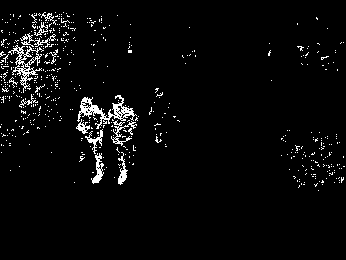person: (106, 91, 137, 186), (77, 95, 108, 185)
